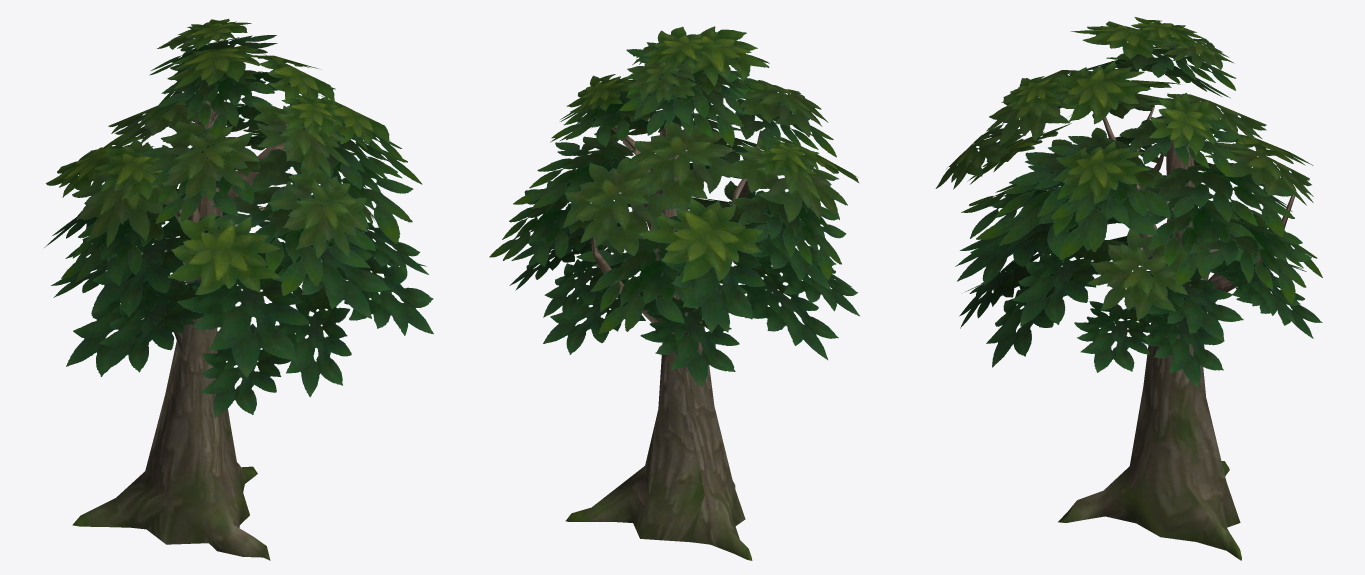
File: tree_A.fbx
3 renders of one model, left to right at view 1: azimuth 30°, elevation 25°; view 2: azimuth 150°, elevation 25°; view 3: azimuth 270°, elevation 25°, orthographic. The views are drawn at different scales.
Parts seen in each view (by area): view 1: leaves_A, trunk_A; view 2: leaves_A, trunk_A; view 3: leaves_A, trunk_A.
Part boxes in pixels (box(x1,y1,x2,y2)): leaves_A: box(44, 18, 433, 417); trunk_A: box(72, 98, 348, 560); leaves_A: box(489, 26, 859, 387); trunk_A: box(565, 125, 761, 560); leaves_A: box(935, 17, 1322, 388); trunk_A: box(1058, 107, 1295, 560).
Size of the model in its own units: 8.65 by 11.44 by 8.97.
